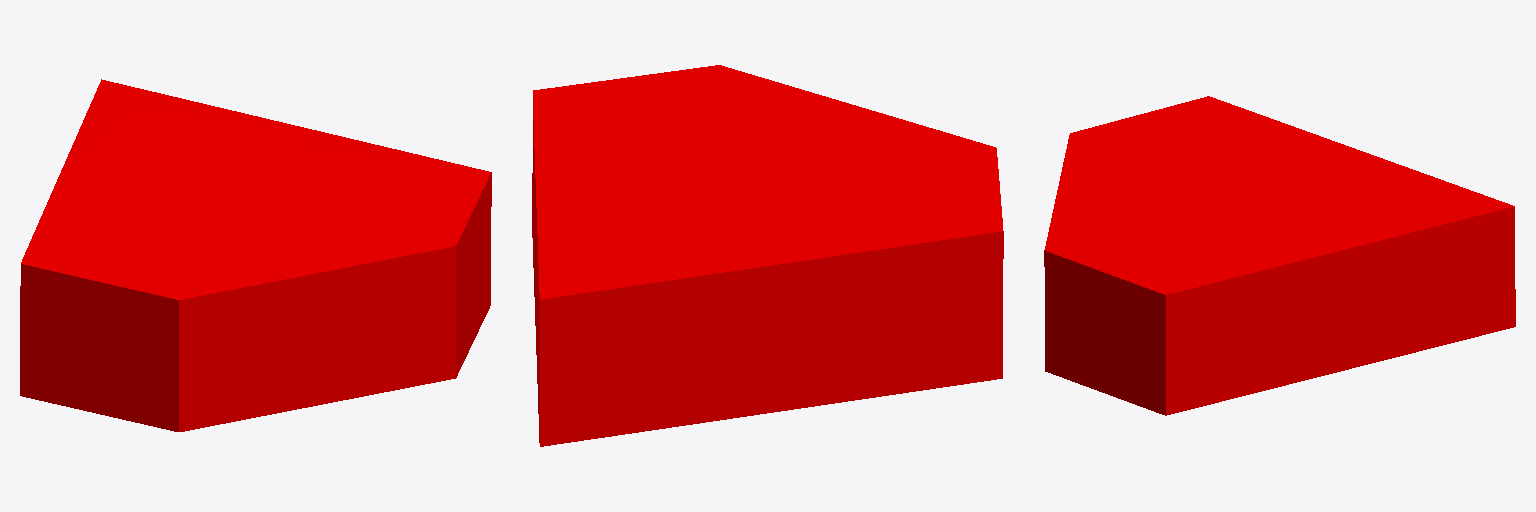
The robot description file, URDF, robot "diamond_block":
<?xml version="1.0"?>
<robot name="diamond_block">
  <link name="block">
    <visual>
      <geometry>
        <mesh filename="./config/assets/diamond.dae"/>
      </geometry>
    </visual>

    <collision>
      <geometry>
        <mesh filename="./config/assets/diamond.dae"/>
      </geometry>
    </collision>
  </link>

</robot>

--- Facts derived from the render (not from the file) ---
The picture shows the robot from 3 angles, left to right: view 1: azimuth 30°, elevation 25°; view 2: azimuth 150°, elevation 25°; view 3: azimuth 270°, elevation 25°; orthographic projection.
Robot: diamond_block — 1 links, 0 joints (none); root link block; default pose: every joint at zero.
Visible links, largest first — view 1: block; view 2: block; view 3: block.
Boxes of the visible links, box(x1,y1,x2,y2) form: block: box(20, 79, 491, 431); block: box(532, 65, 1003, 446); block: box(1044, 96, 1515, 415).
Size in the robot's own frame: 0.07 by 0.07 by 0.02 metres.
1 mesh visuals loaded from 1 distinct referenced files (1 Collada DAE).